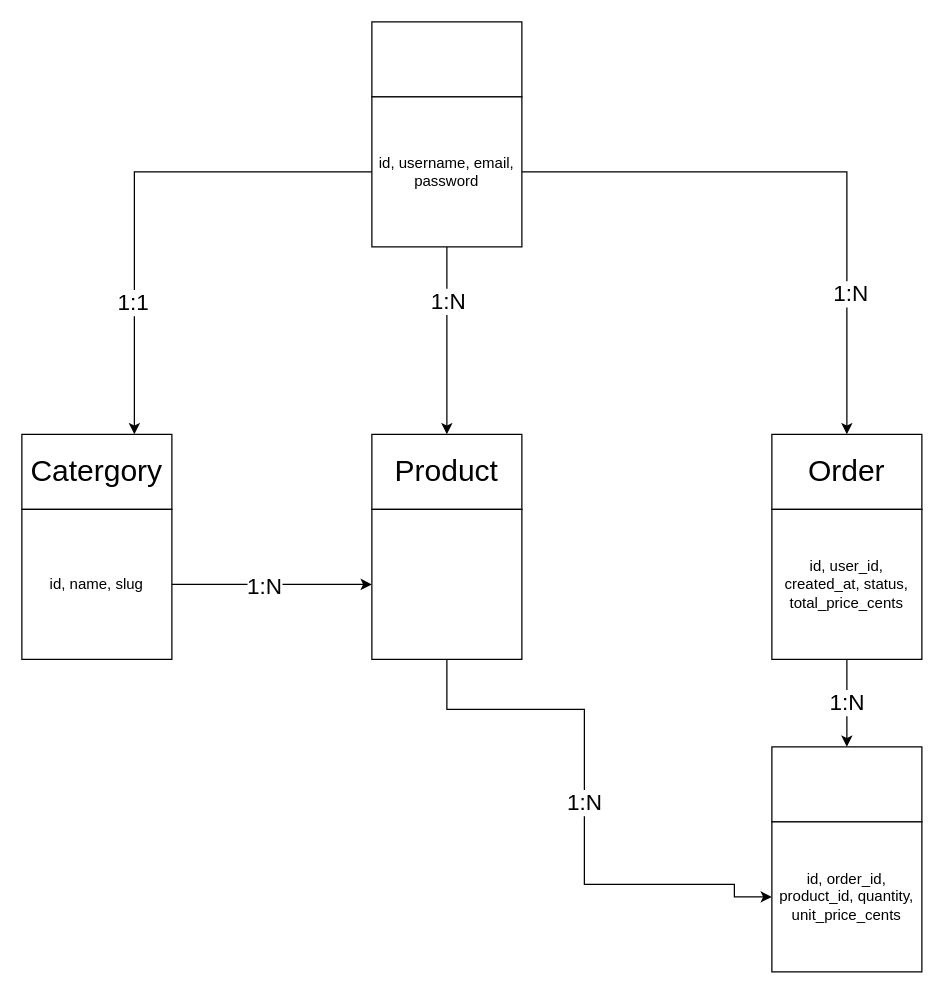
Image size: 944x994. Some labels were removed from this diagram. The box of each missing label's shape, as (x1, y1, x2, y2) in pixels:
id, category_id, name, slug, price_cents, currency, stock, is_active: (371, 508, 522, 659)
Order Item: (771, 746, 922, 822)
User: (371, 21, 522, 97)
